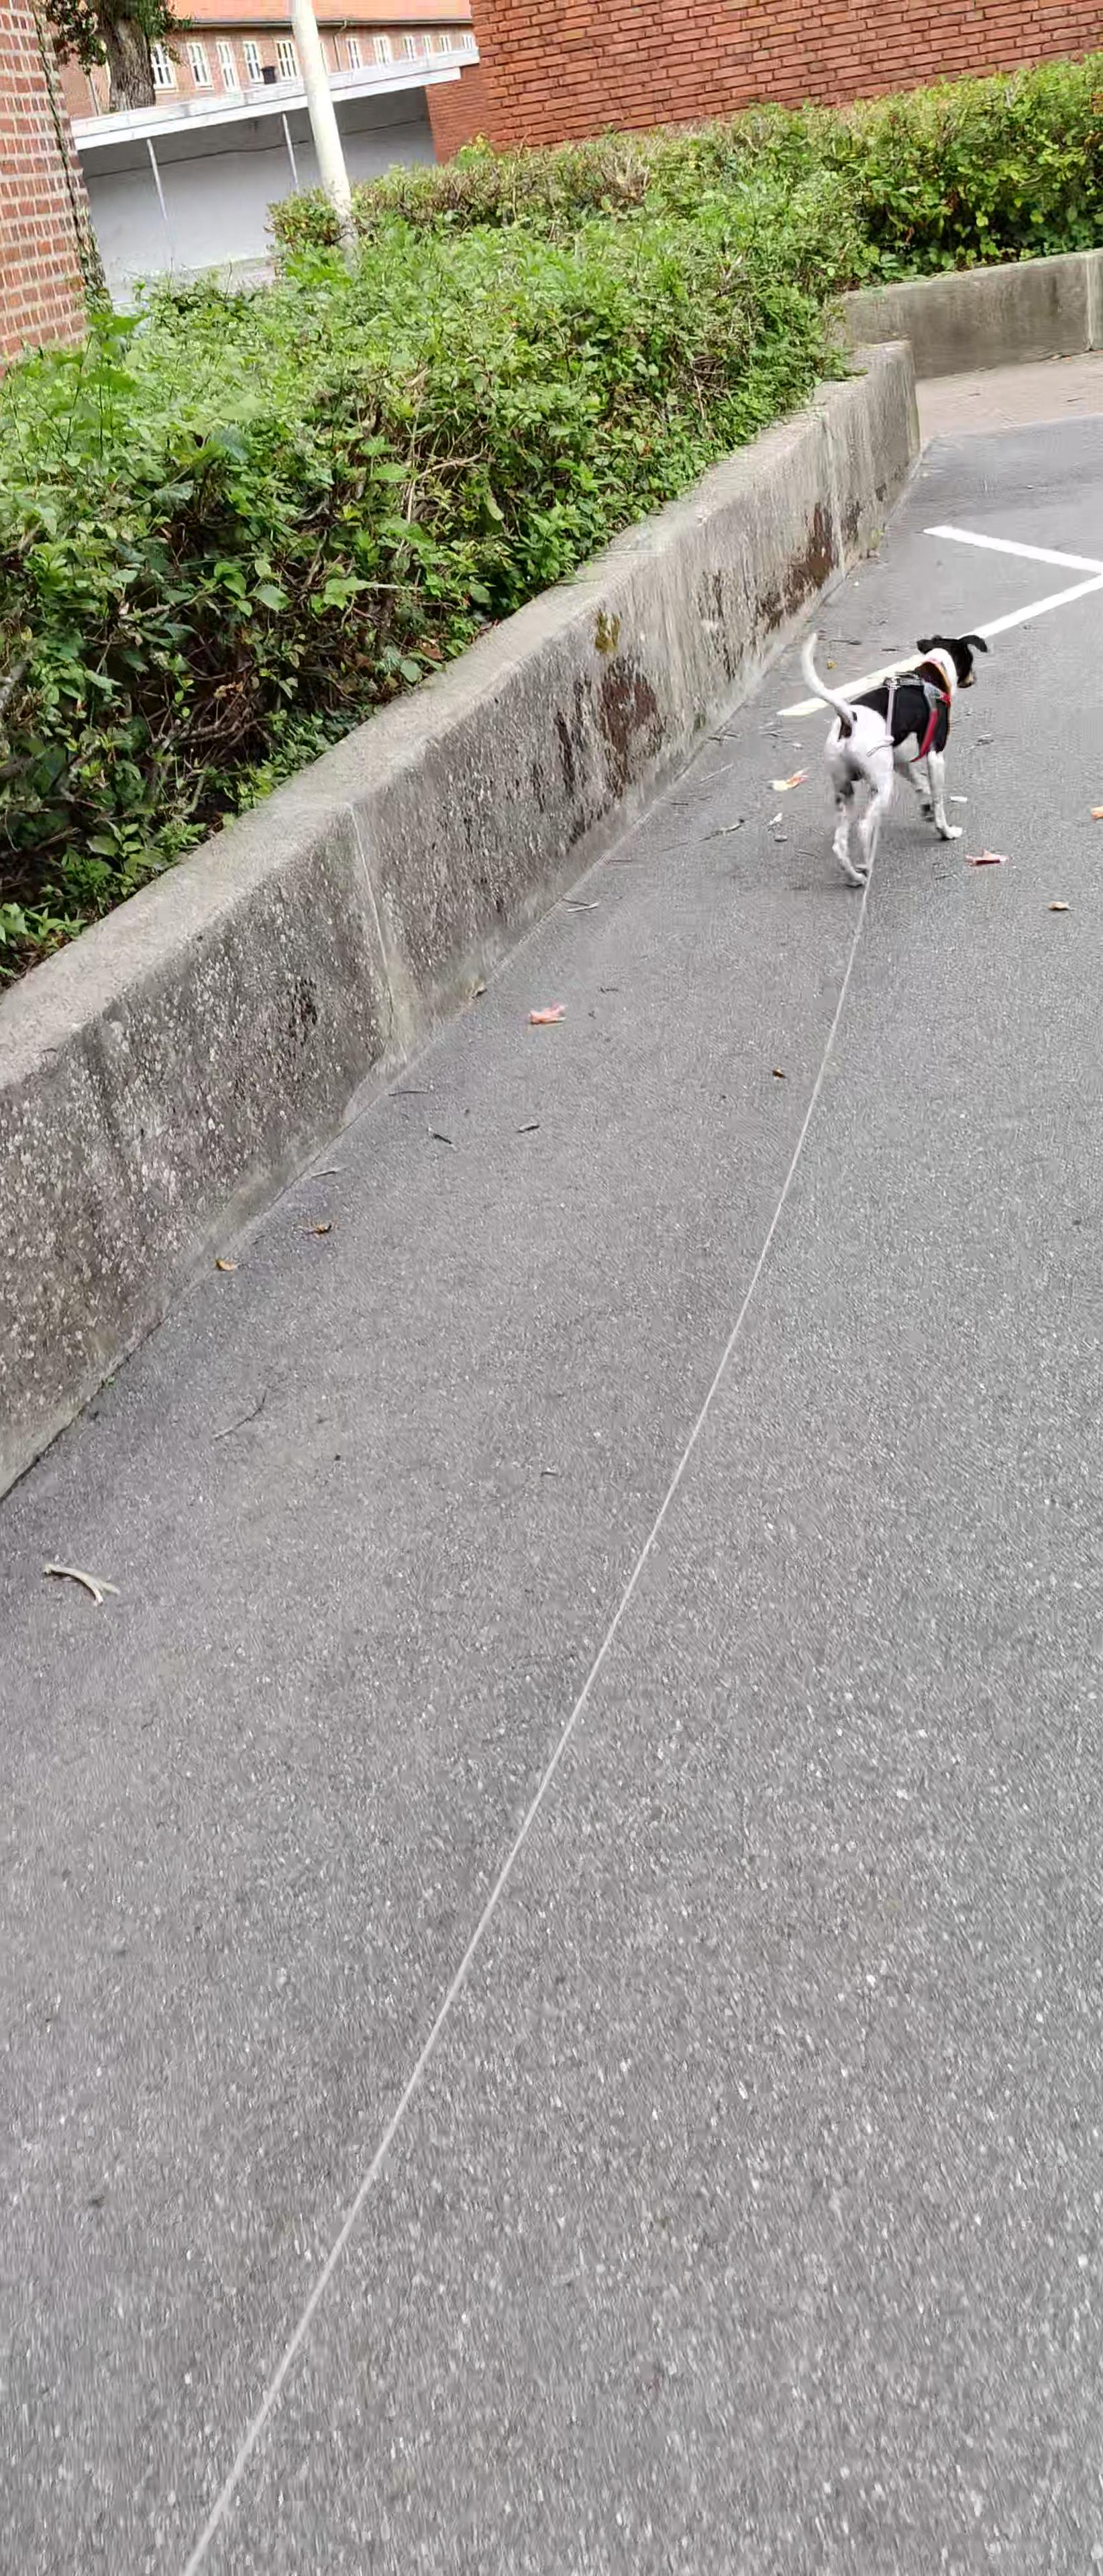Dog: (794, 629, 988, 890)
